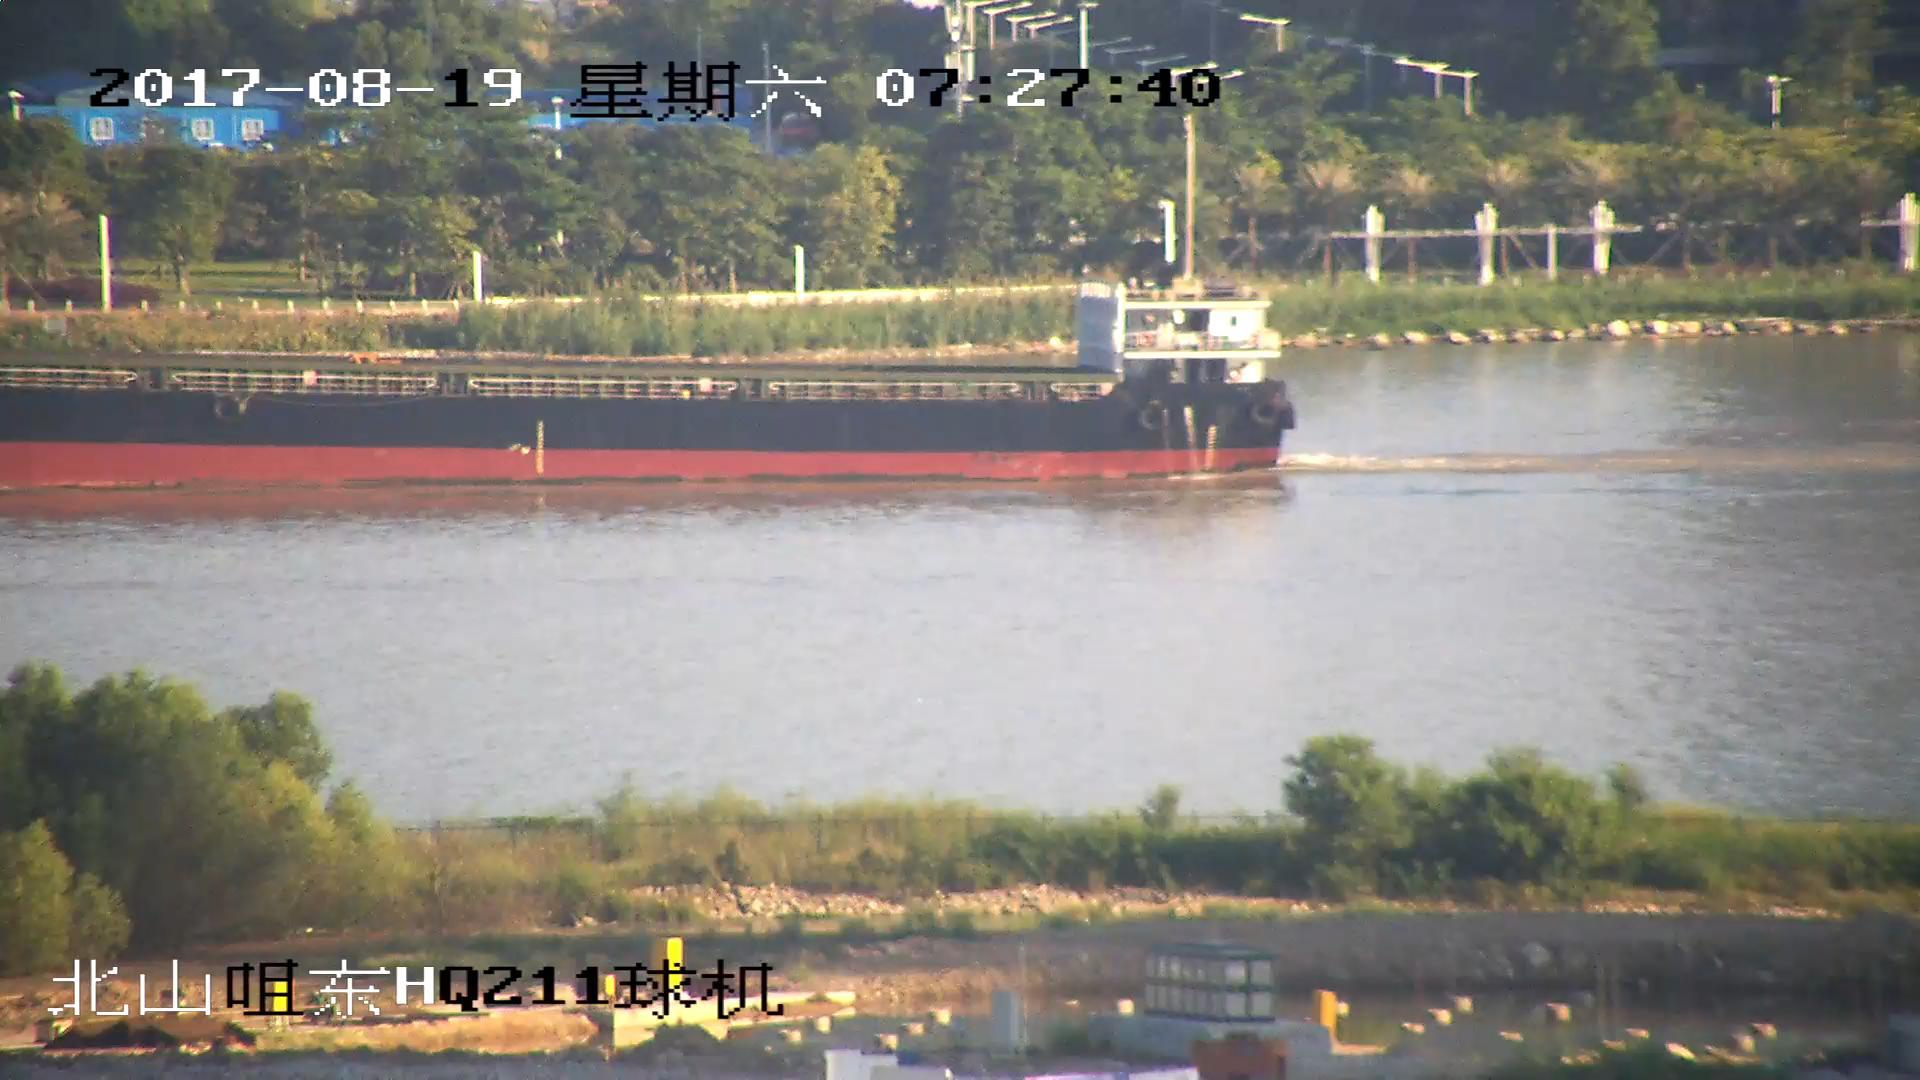Ship: (3, 123, 1309, 491)
